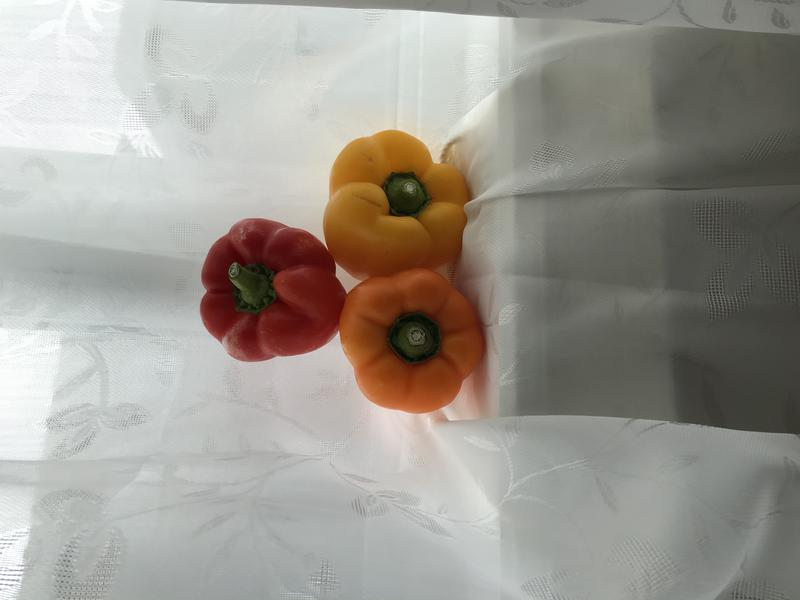orange_pepper: (335, 267, 491, 418)
red_pepper: (194, 209, 351, 372)
yellow_pepper: (320, 122, 479, 278)
